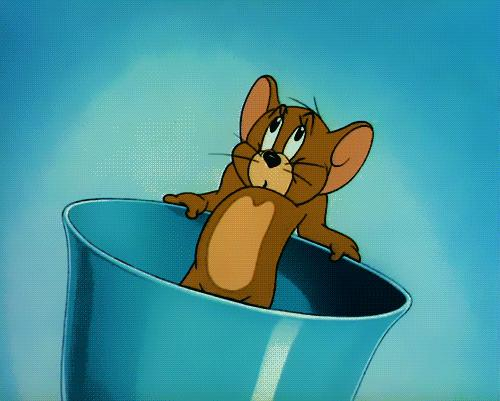jerry: (162, 73, 376, 312)
